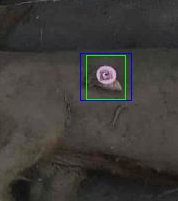text: (86, 55, 125, 99)
